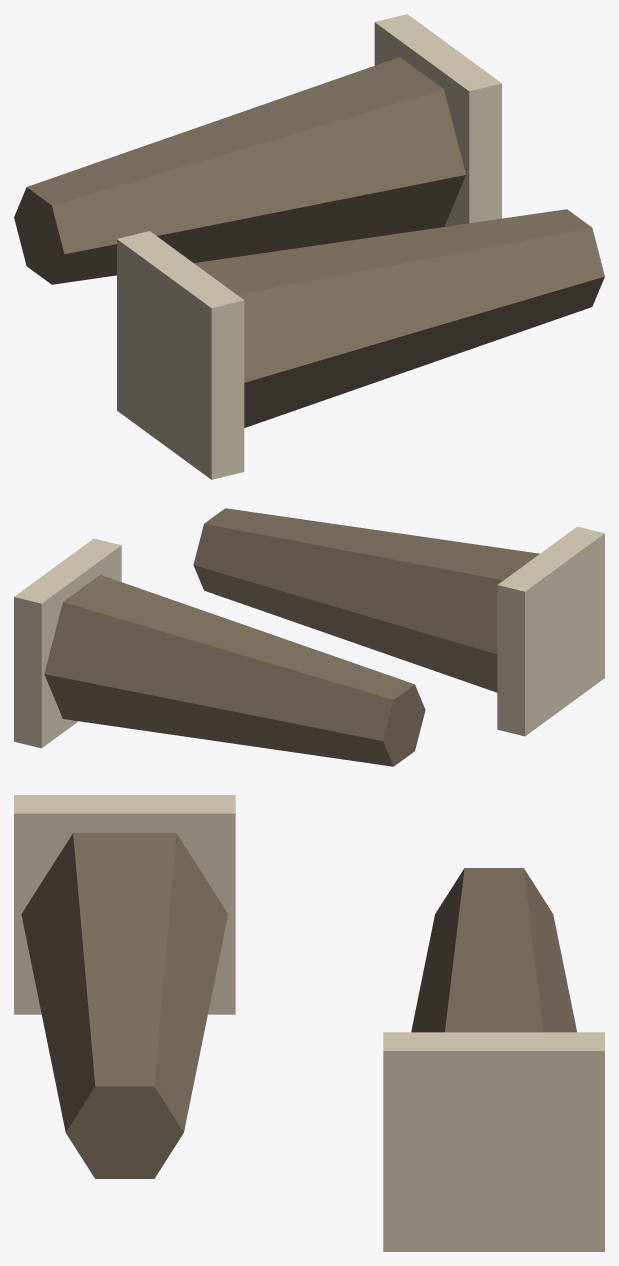
File: prop-horn-nock-blank.fbx
3 renders of one model, top to bottom at view 1: azimuth 30°, elevation 25°; view 2: azimuth 150°, elevation 25°; view 3: azimuth 270°, elevation 25°, orthographic. The views are drawn at different scales.
Parts seen in each view (by area): view 1: prop-horn-nock-blank; view 2: prop-horn-nock-blank; view 3: prop-horn-nock-blank.
Part boxes in pixels (bbox=[...]): prop-horn-nock-blank: bbox=[14, 14, 604, 479]; prop-horn-nock-blank: bbox=[14, 508, 604, 766]; prop-horn-nock-blank: bbox=[14, 795, 604, 1251].
Size of the model in its own units: 8.2 by 3 by 8.
